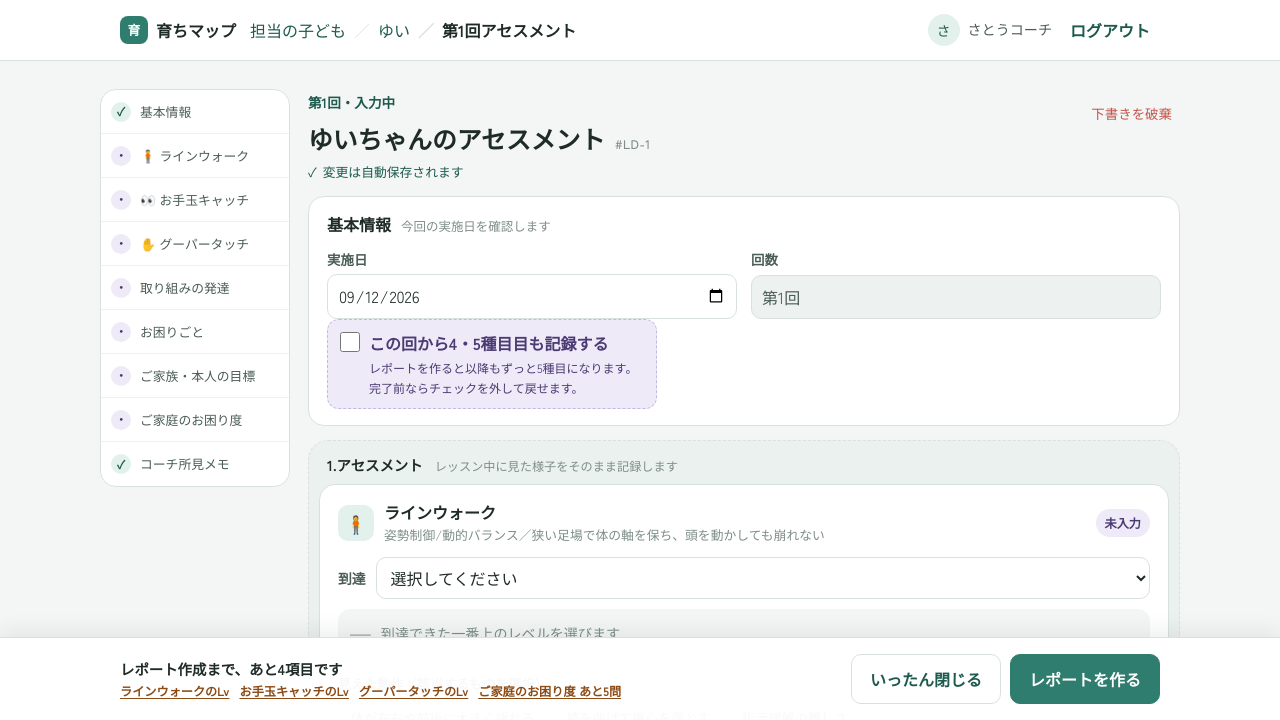
Test: アセスメント入力 › 未保存のままヘッダーから移動しようとすると確認を出す
Select "Lv3 17cm｜後進｜自由視｜頭の上にタオル" in the dropdown labelled "到達" at (763, 578), box [376,557,1150,599]
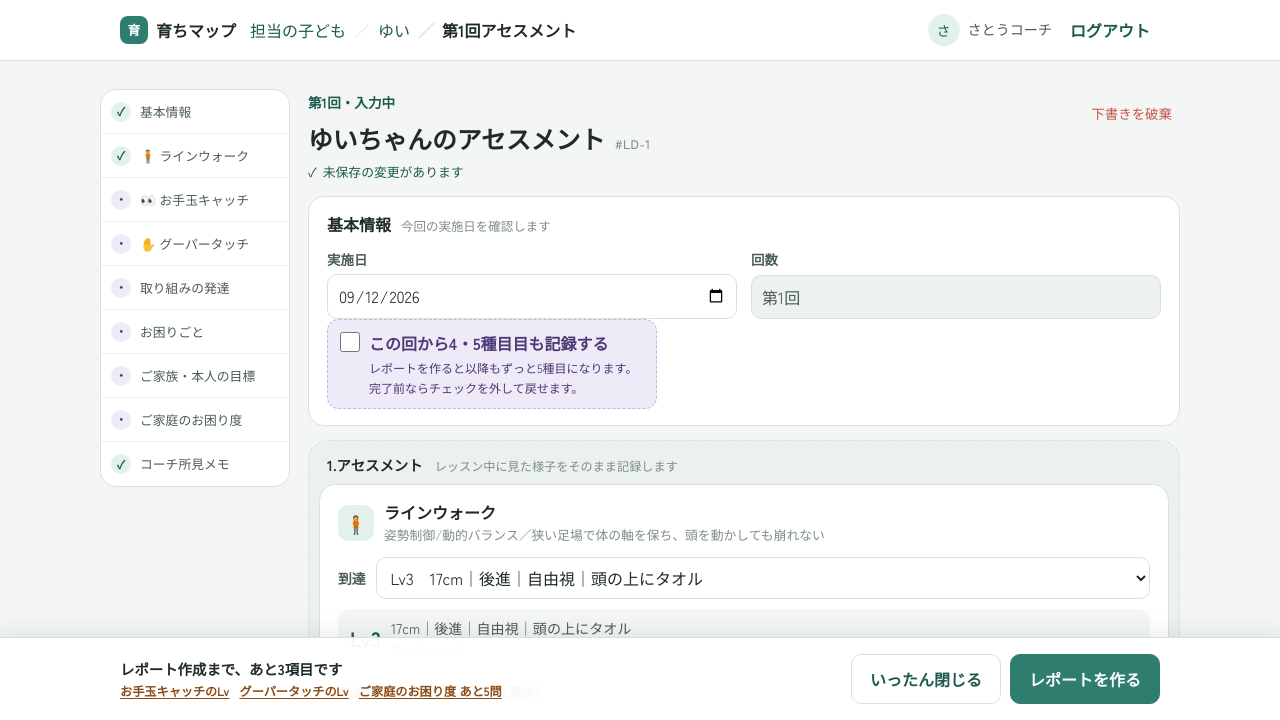
Click the link "担当の子ども" at (298, 30), box [250,18,346,42]
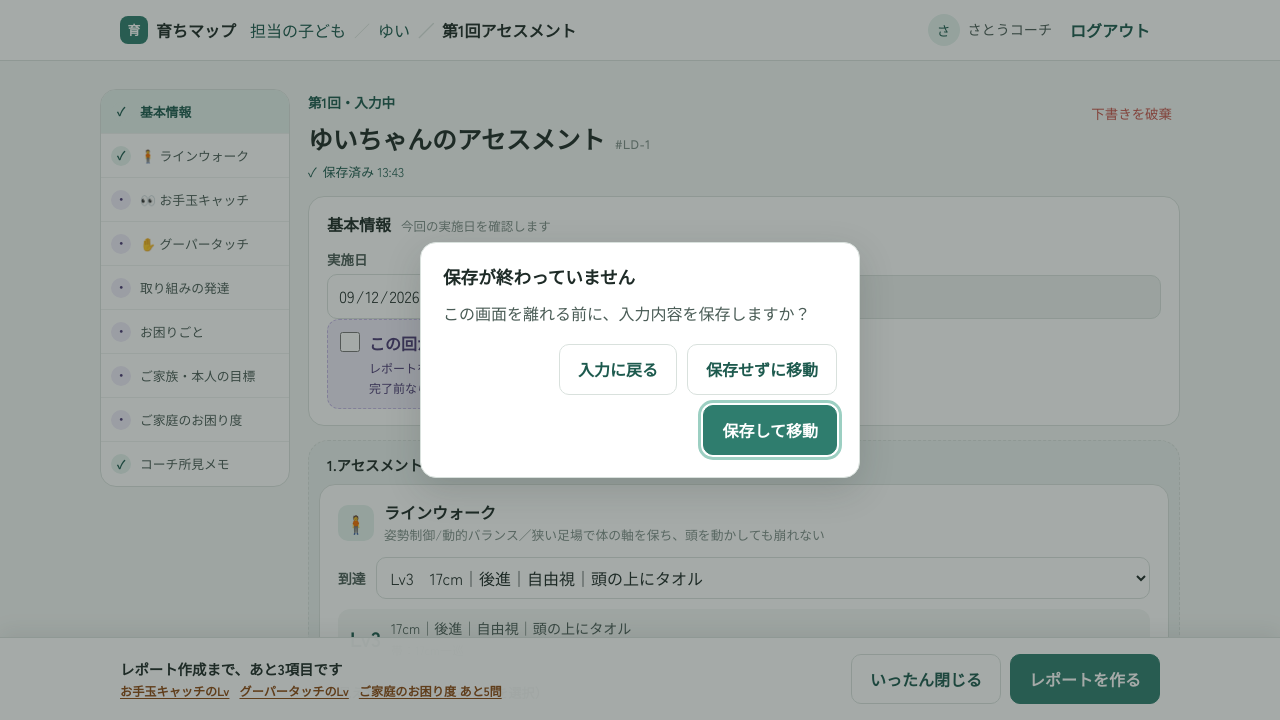
Result: the dialog shows "保存が終わっていません" at [443,264,635,289]
Result: the button "保存して移動" is shown at [704,404,837,455]
Result: the button "保存せずに移動" is shown at [687,344,837,394]
